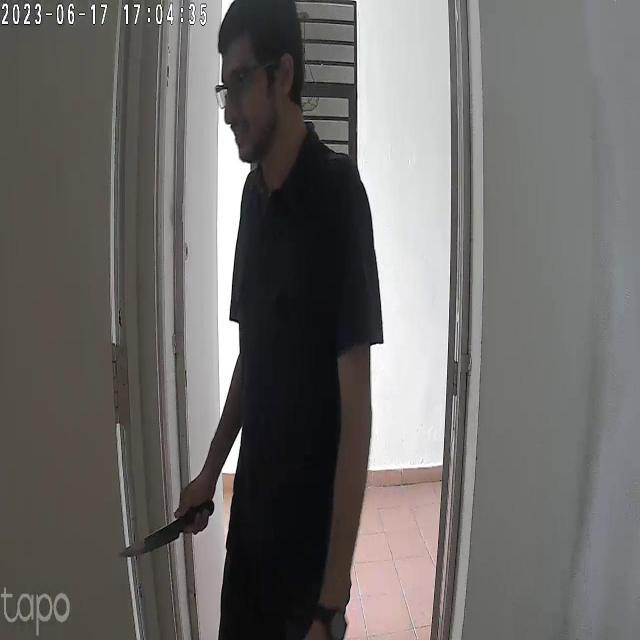Knife: (113, 496, 222, 564)
